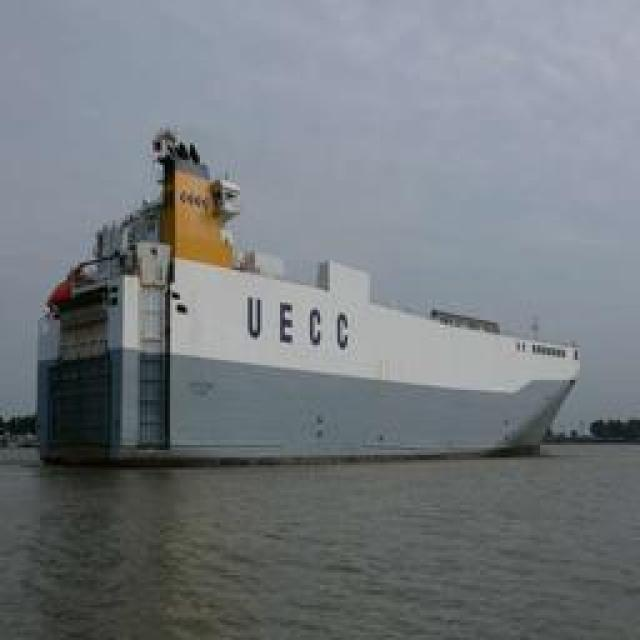ship2: (36, 132, 581, 469)
